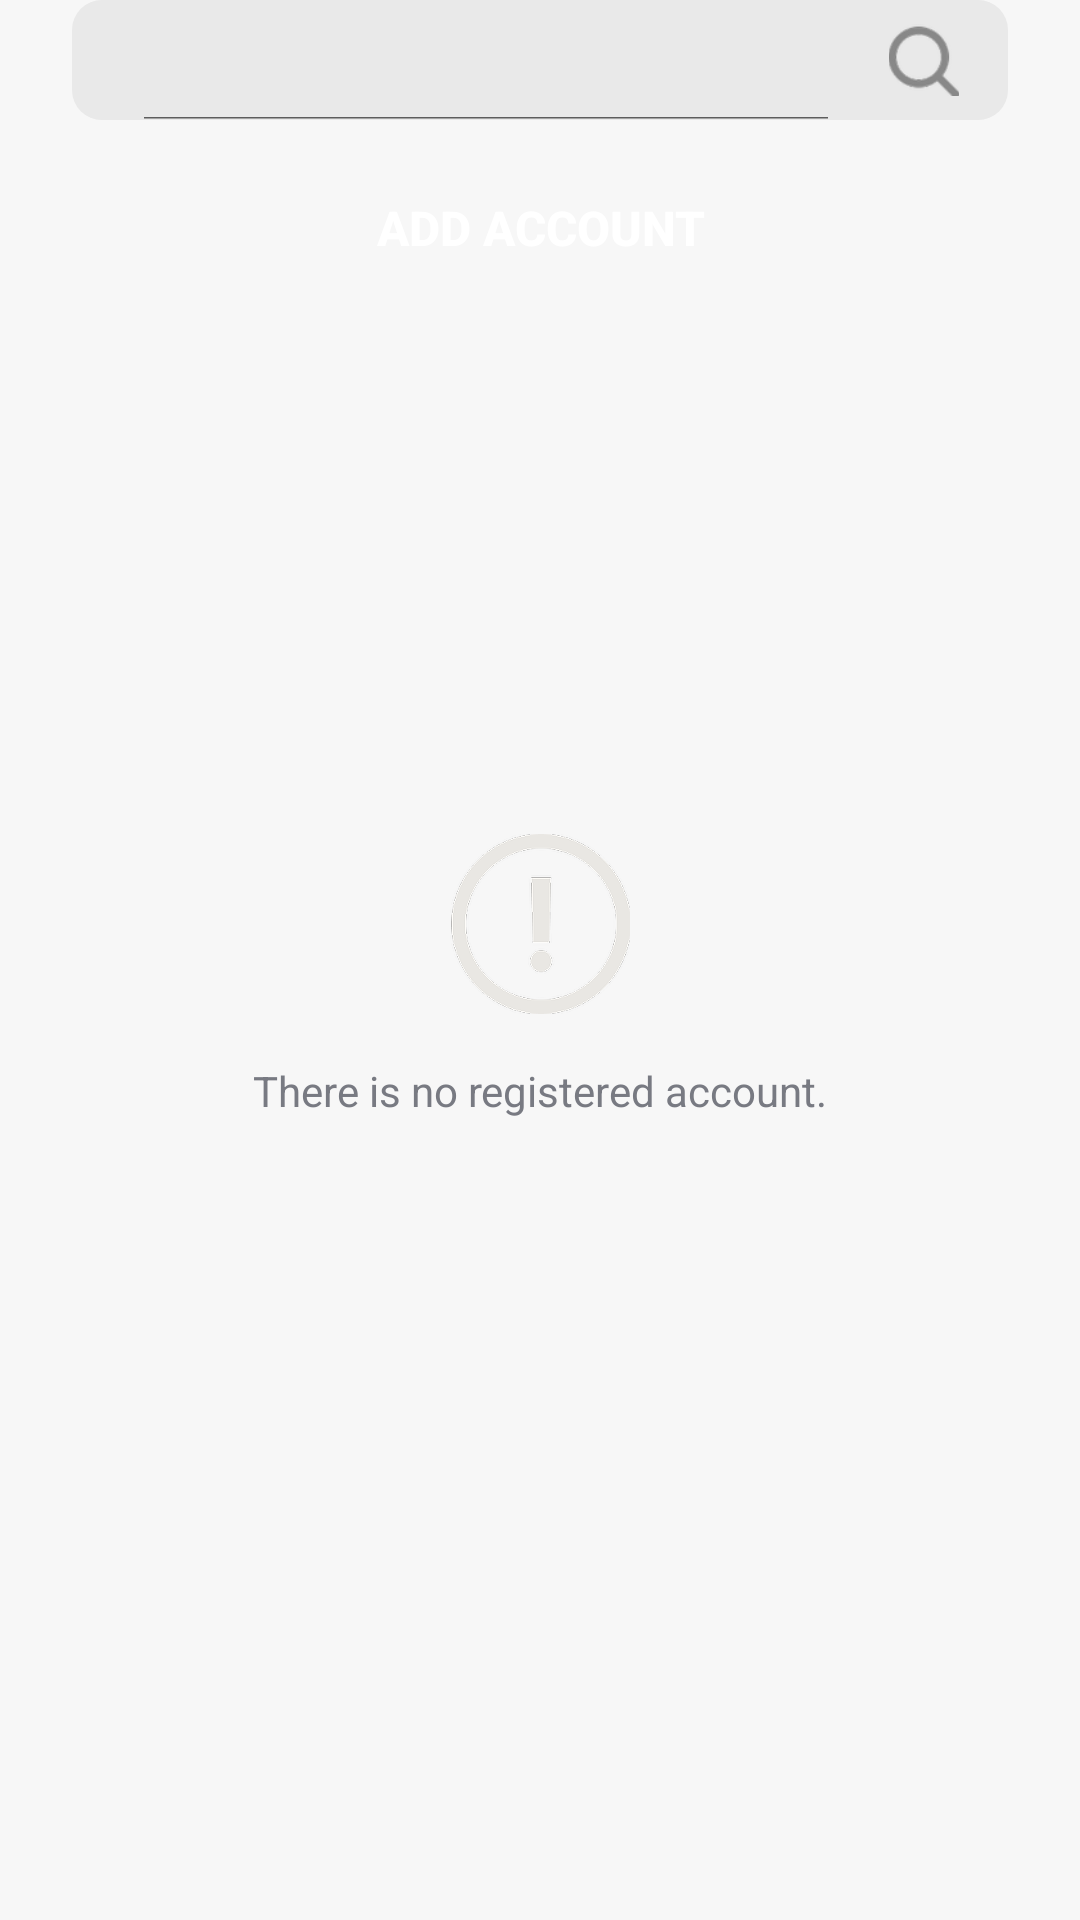

Icon bounding boxes for this 1080 × 1920 phone screenshot, format {"x1": x1, "y1": y1, "x2": x2, "y2": y2}:
no item: {"x1": 451, "y1": 834, "x2": 630, "y2": 1014}
